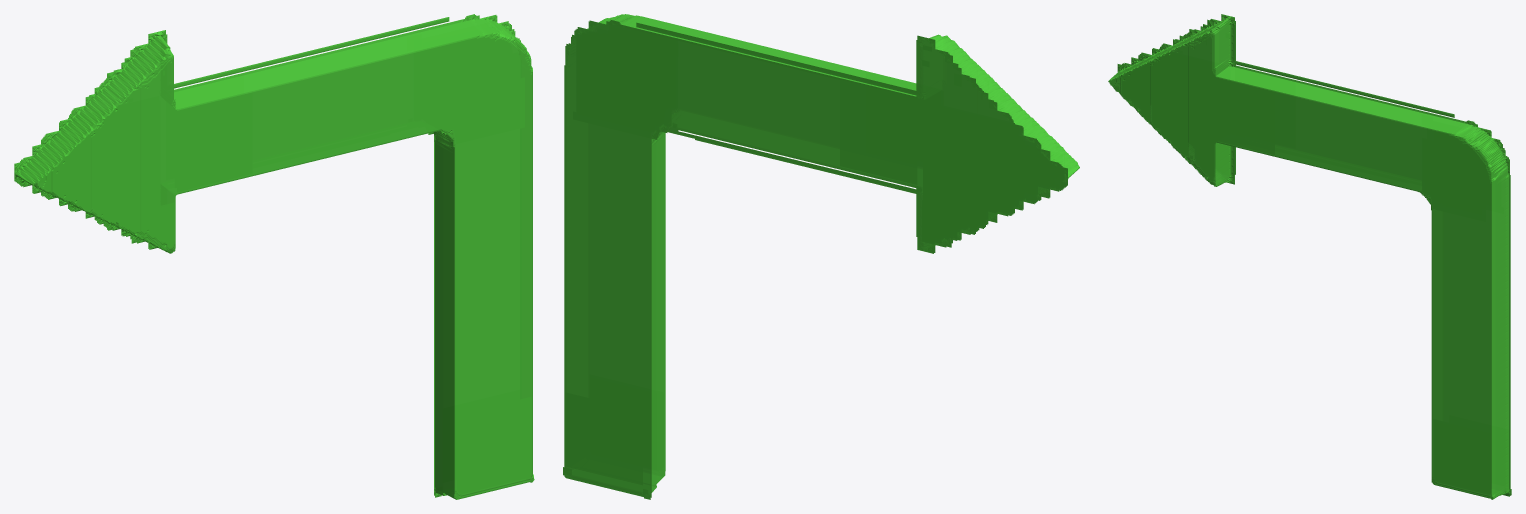
3 views of the same model, side by side, from view 1: azimuth 30°, elevation 25°; view 2: azimuth 150°, elevation 25°; view 3: azimuth 330°, elevation 25° (orthographic). The views are drawn at different scales.
Parts seen in each view (by area): view 1: Object-1; view 2: Object-1; view 3: Object-1.
Boxes of the visible parts, x1,y1,x2,y2 form: Object-1: (14, 14, 534, 499); Object-1: (563, 14, 1079, 499); Object-1: (1108, 14, 1511, 499).
Size of the model in its own units: 89.06 by 89.26 by 5.29.
